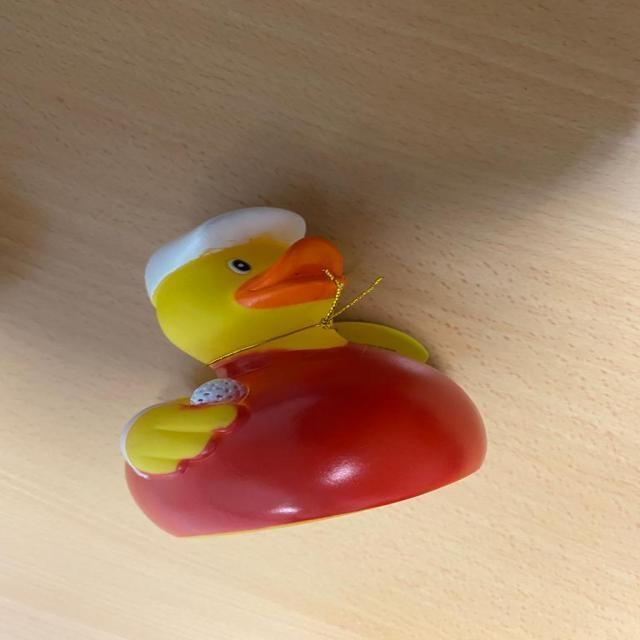rubber-duck: (121, 206, 484, 534)
